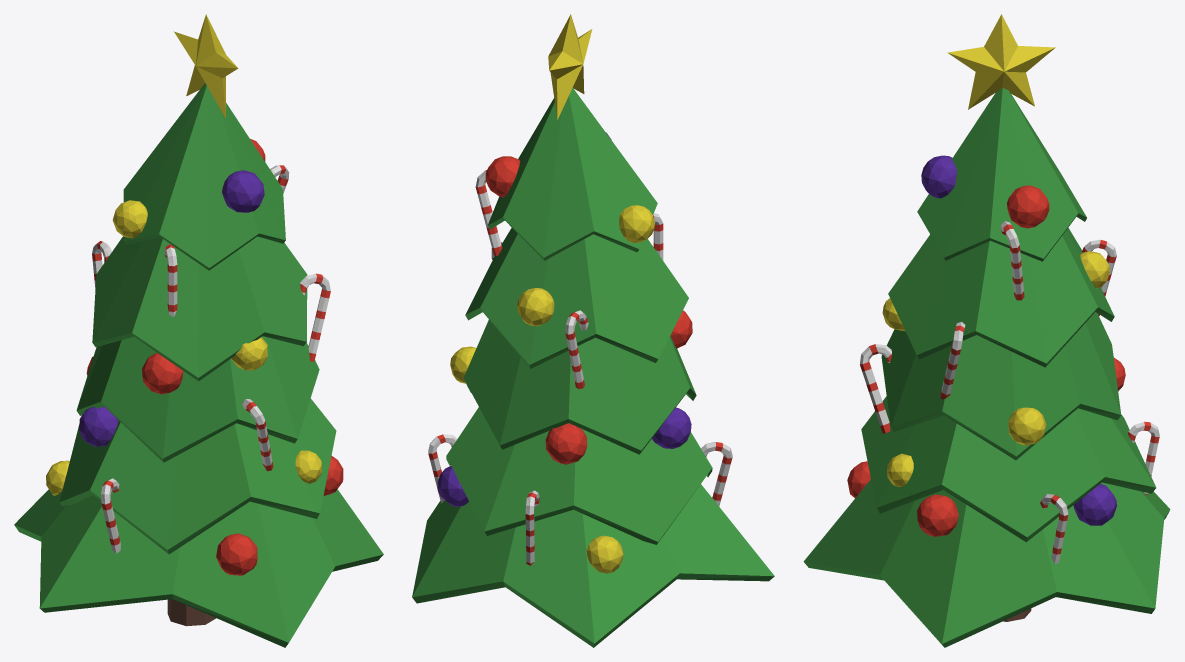
3 renders of one model, left to right at view 1: azimuth 30°, elevation 25°; view 2: azimuth 150°, elevation 25°; view 3: azimuth 270°, elevation 25°, orthographic.
Parts seen in each view (by area): view 1: node_MeshObject97506304-PolyPaper10; view 2: node_MeshObject97506304-PolyPaper10; view 3: node_MeshObject97506304-PolyPaper10.
Boxes of the visible parts, left/top/right/bottom form: node_MeshObject97506304-PolyPaper10: left=14, top=14, right=383, bottom=647; node_MeshObject97506304-PolyPaper10: left=412, top=14, right=774, bottom=647; node_MeshObject97506304-PolyPaper10: left=803, top=14, right=1170, bottom=647.
Bounding box in the file's own units: 0.8953 × 1.54 × 0.848.
